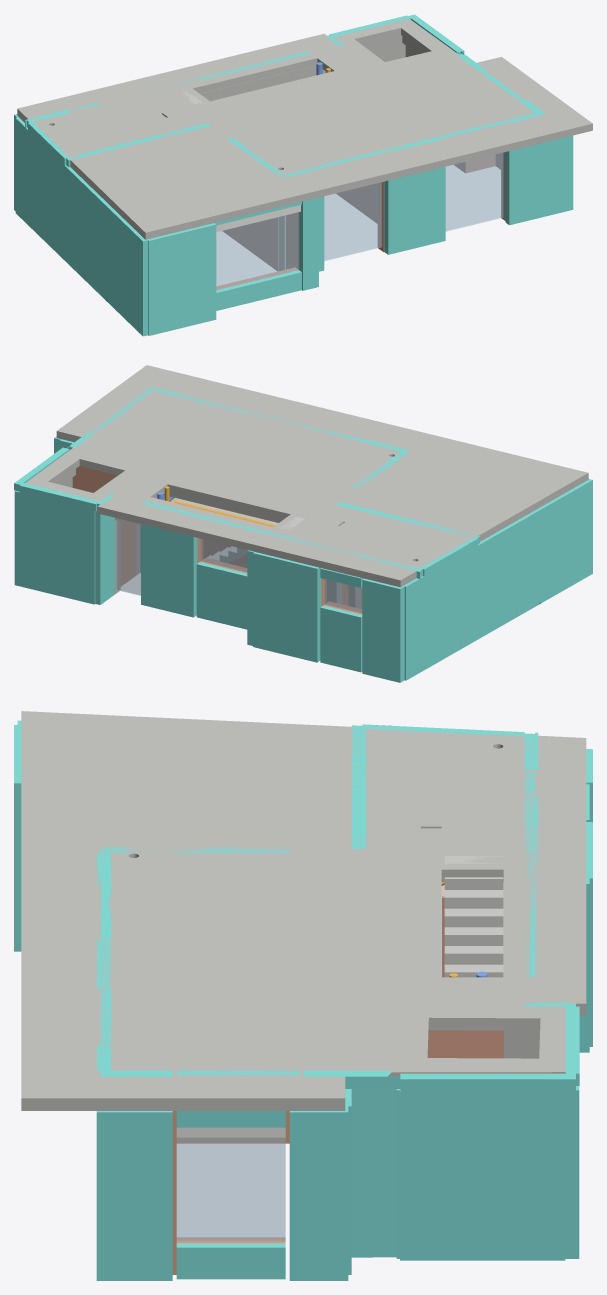
Rendered from House_AR_F1.glb.
3 views of the same model, one above another, from view 1: azimuth 30°, elevation 25°; view 2: azimuth 150°, elevation 25°; view 3: azimuth 270°, elevation 25° (orthographic). The views are drawn at different scales.
Visible parts, largest first — view 1: AT-SB01, F1-ET06, F1-ET04, F1-EO07, F1-ET17, F1-ET01, F1-EO05, F1-EO06, F1-EO07-SILL-ET, F1-ET20, F1-INTW08, F1-BEAM05 (+11 smaller); view 2: AT-SB01, F1-ET06, F1-ET14, F1-ET07, F1-ET18, F1-ET05, F1-EO02-SILL-ET, F1-EO01-SILL-ET, F1-EO03, F1-ET15, F1-EO02, F1-EO01 (+13 smaller); view 3: AT-SB01, F1-ET13, F1-ET02, F1-EO04, F1-ET08, F1-ET10, F1-ST01, F1-EO04-SILL-ET, AT-ET02, F1-ET14, F1-INTW06, F1-EO04-HEAD-ET (+15 smaller).
Boxes of the visible parts, x1=… form: AT-SB01: x1=17, y1=18, x2=592, y2=239; F1-ET06: x1=15, y1=117, x2=147, y2=336; F1-ET04: x1=147, y1=223, x2=216, y2=335; F1-EO07: x1=216, y1=212, x2=299, y2=289; F1-ET17: x1=384, y1=166, x2=445, y2=254; F1-ET01: x1=505, y1=137, x2=566, y2=225; F1-EO05: x1=445, y1=152, x2=503, y2=231; F1-EO06: x1=324, y1=182, x2=381, y2=260; F1-EO07-SILL-ET: x1=216, y1=270, x2=301, y2=310; F1-ET20: x1=299, y1=197, x2=318, y2=290; F1-INTW08: x1=223, y1=217, x2=278, y2=271; F1-BEAM05: x1=200, y1=65, x2=325, y2=101; AT-SB01: x1=25, y1=365, x2=588, y2=587; F1-ET06: x1=403, y1=479, x2=592, y2=680; F1-ET14: x1=14, y1=490, x2=95, y2=604; F1-ET07: x1=253, y1=552, x2=321, y2=662; F1-ET18: x1=141, y1=524, x2=197, y2=617; F1-ET05: x1=362, y1=578, x2=406, y2=682; F1-EO02-SILL-ET: x1=196, y1=562, x2=247, y2=629; F1-EO01-SILL-ET: x1=320, y1=605, x2=362, y2=672; F1-EO03: x1=116, y1=520, x2=140, y2=595; F1-ET15: x1=95, y1=511, x2=114, y2=604; F1-EO02: x1=200, y1=539, x2=247, y2=572; F1-EO01: x1=324, y1=579, x2=362, y2=613; AT-SB01: x1=21, y1=711, x2=586, y2=1110; F1-ET13: x1=403, y1=1092, x2=565, y2=1260; F1-ET02: x1=96, y1=1111, x2=172, y2=1280; F1-EO04: x1=176, y1=1137, x2=285, y2=1241; F1-ET08: x1=289, y1=1106, x2=348, y2=1280; F1-ET10: x1=351, y1=1089, x2=396, y2=1257; F1-ST01: x1=444, y1=856, x2=503, y2=977; F1-EO04-SILL-ET: x1=176, y1=1243, x2=285, y2=1279; AT-ET02: x1=400, y1=1073, x2=575, y2=1091; F1-ET14: x1=565, y1=1086, x2=579, y2=1258; F1-INTW06: x1=434, y1=1030, x2=503, y2=1058; F1-EO04-HEAD-ET: x1=176, y1=1111, x2=285, y2=1127.
Size of the model in its own units: 13.45 by 2.9 by 8.4.
